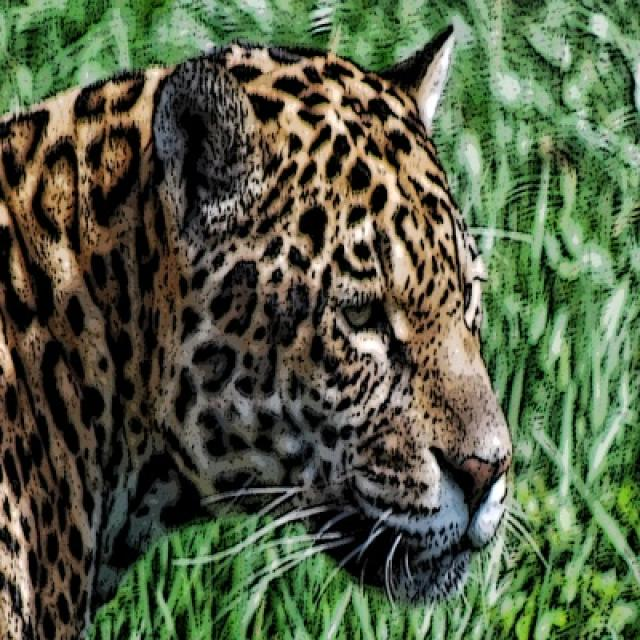Jaguar: (0, 22, 514, 638)
